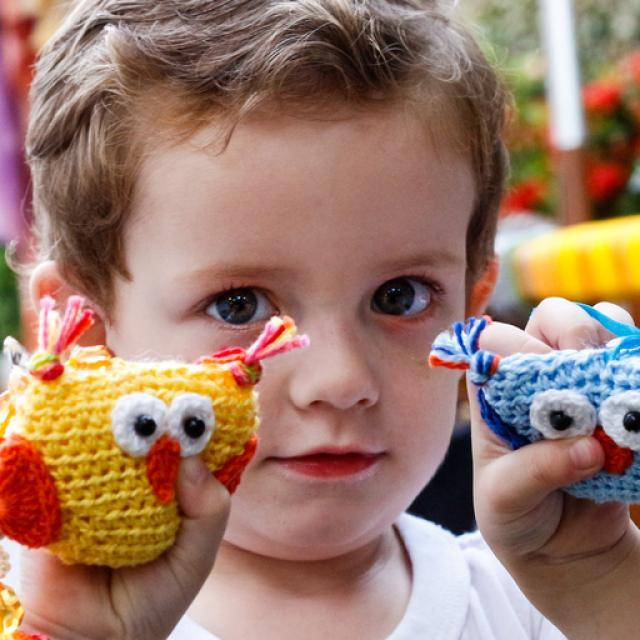neutral: (112, 116, 468, 556)
